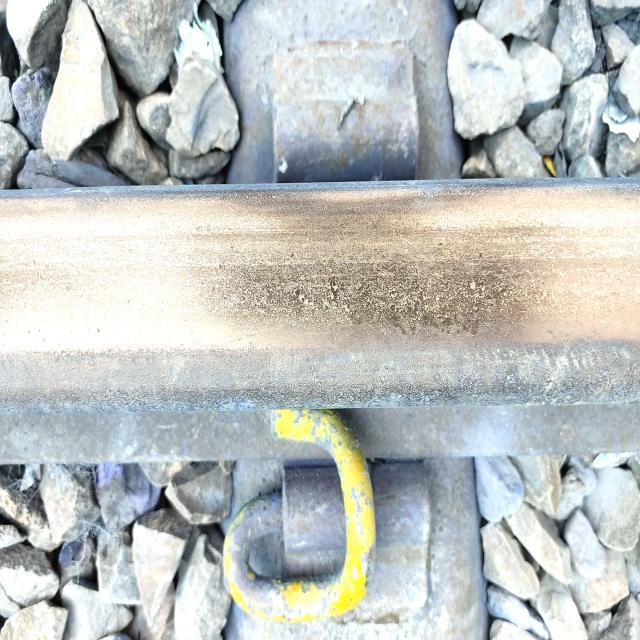Good Fasteners: (224, 409, 432, 625)
Missing Fastener: (260, 40, 420, 184)
